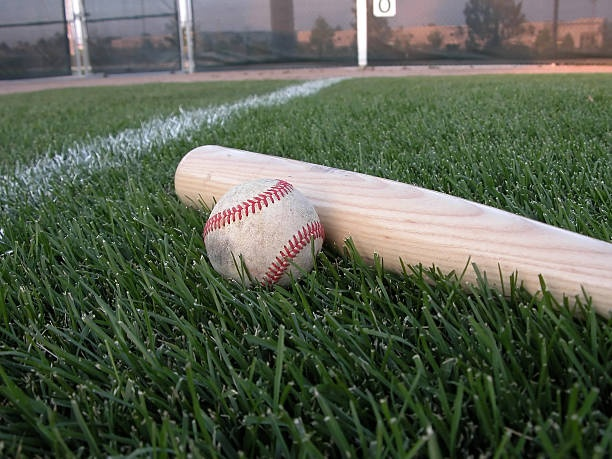bita: (176, 144, 612, 306)
